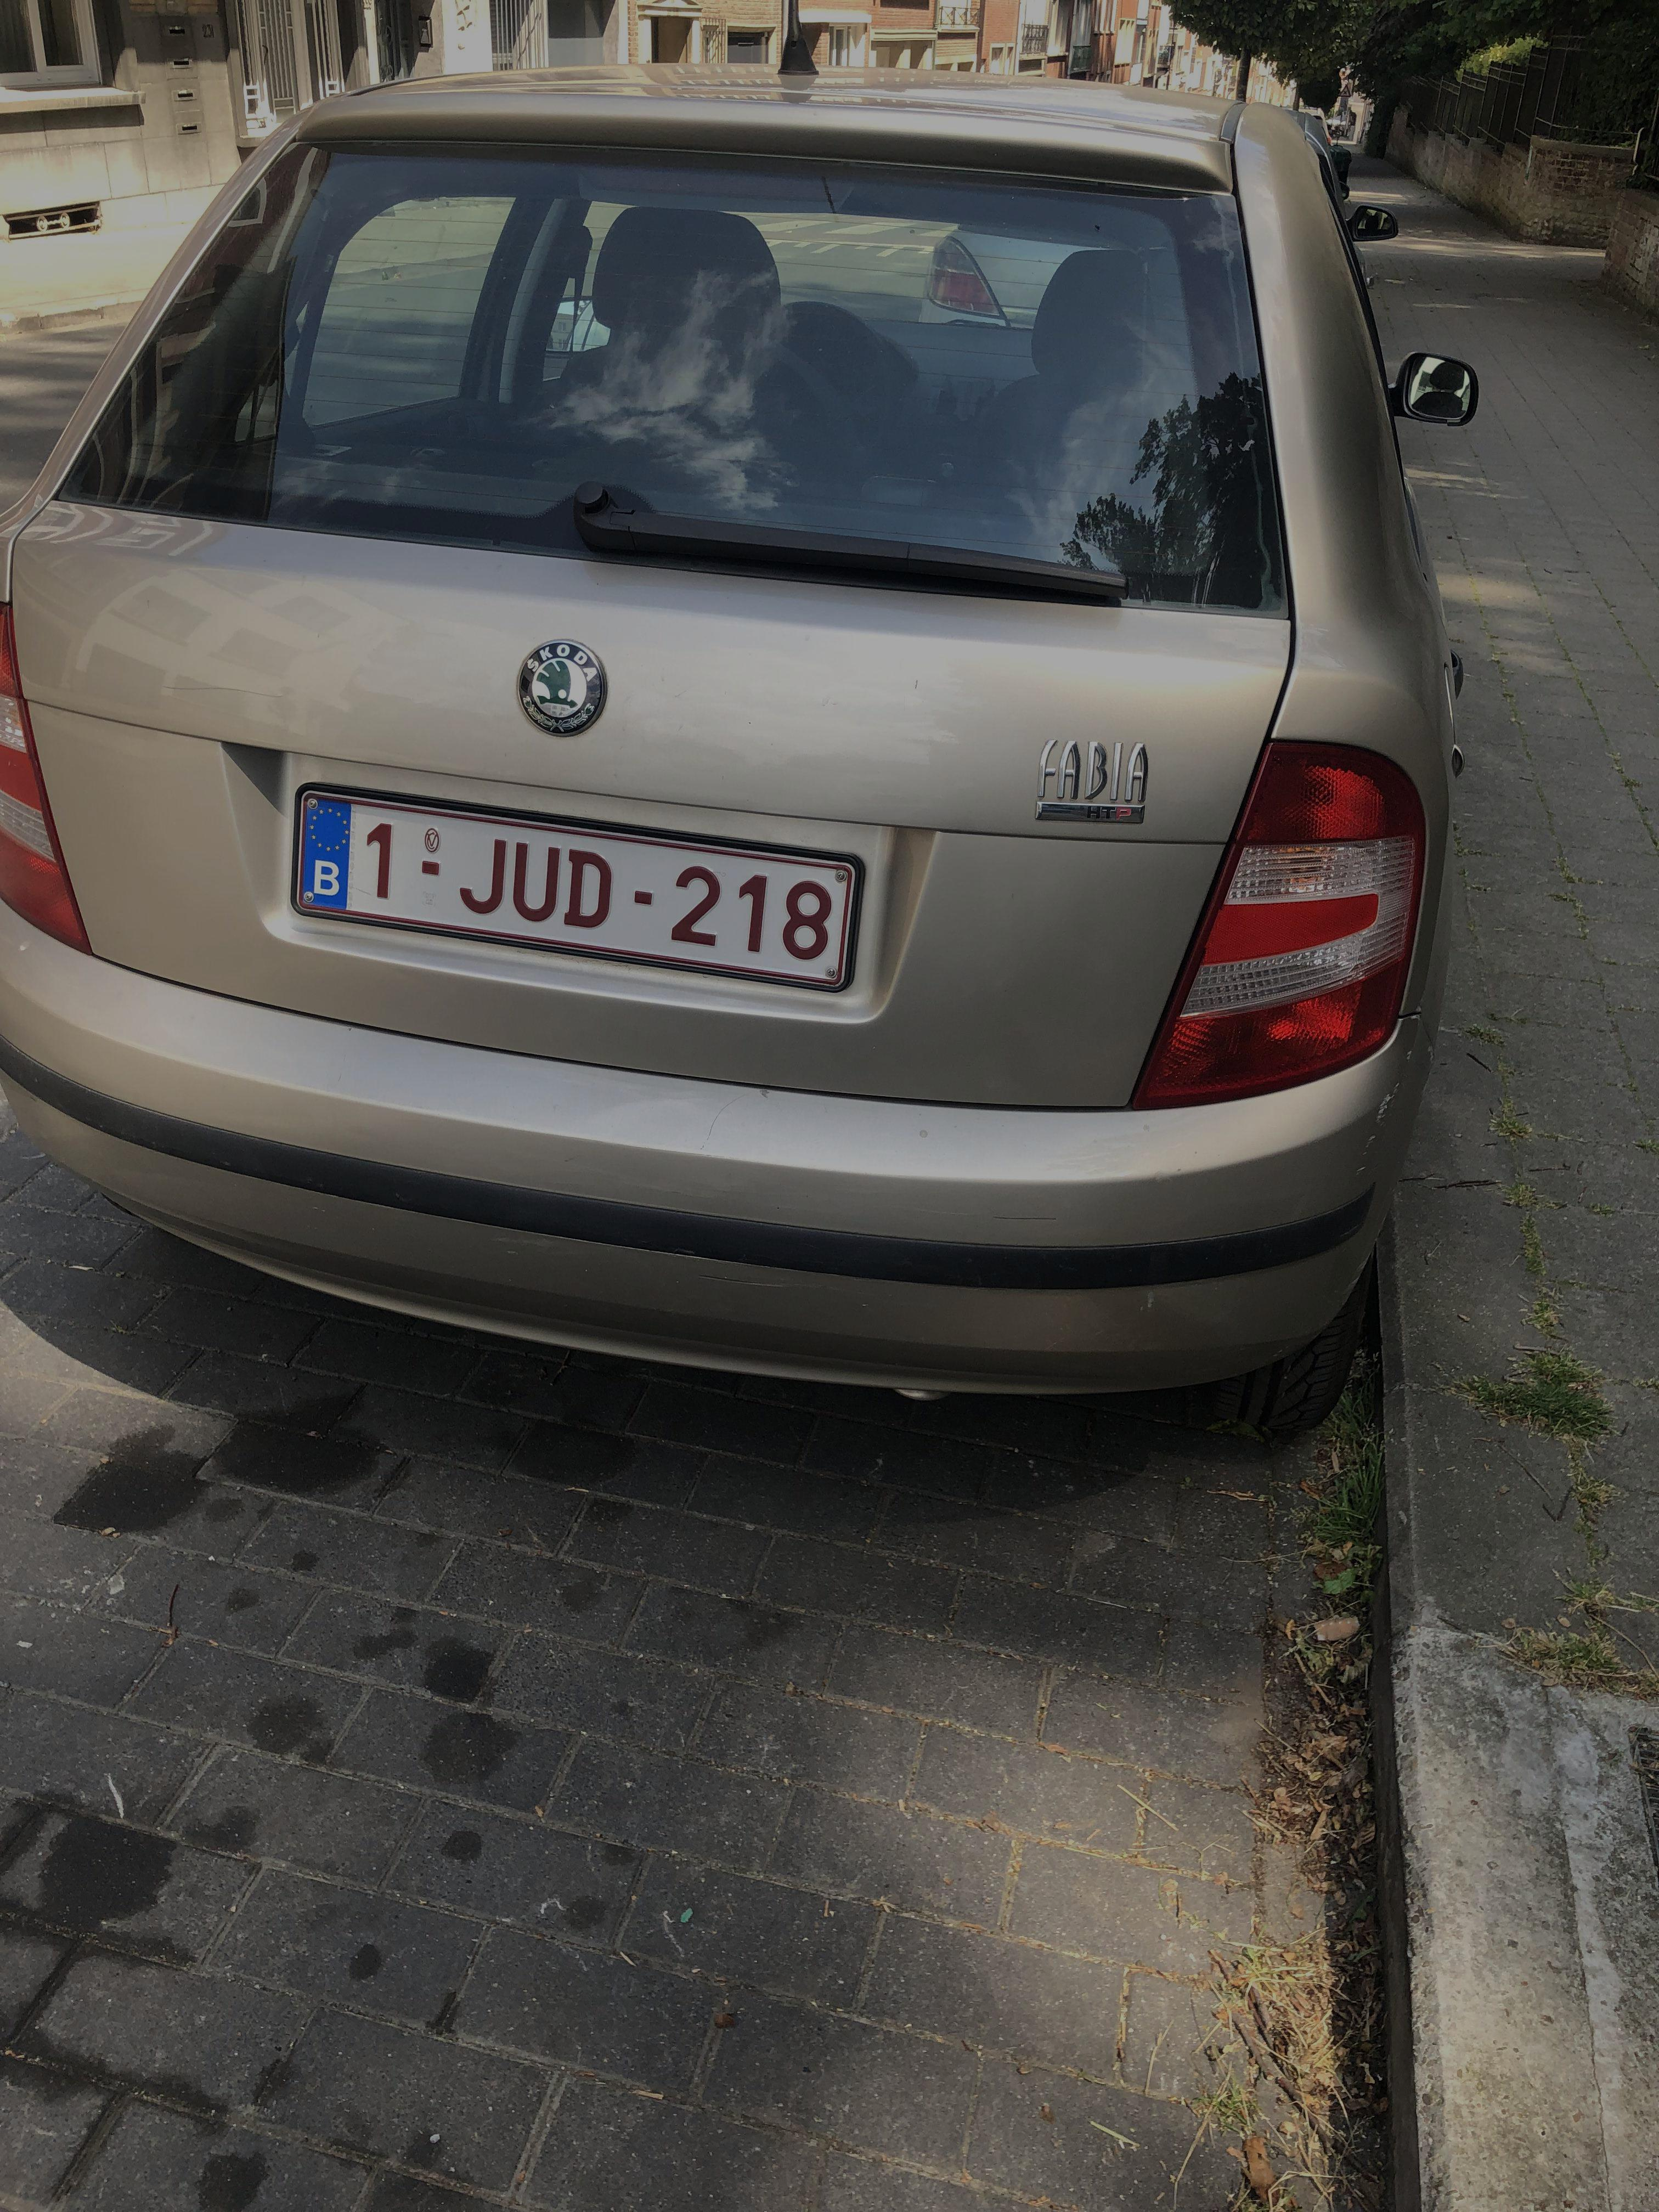plate: (273, 739, 885, 1039)
